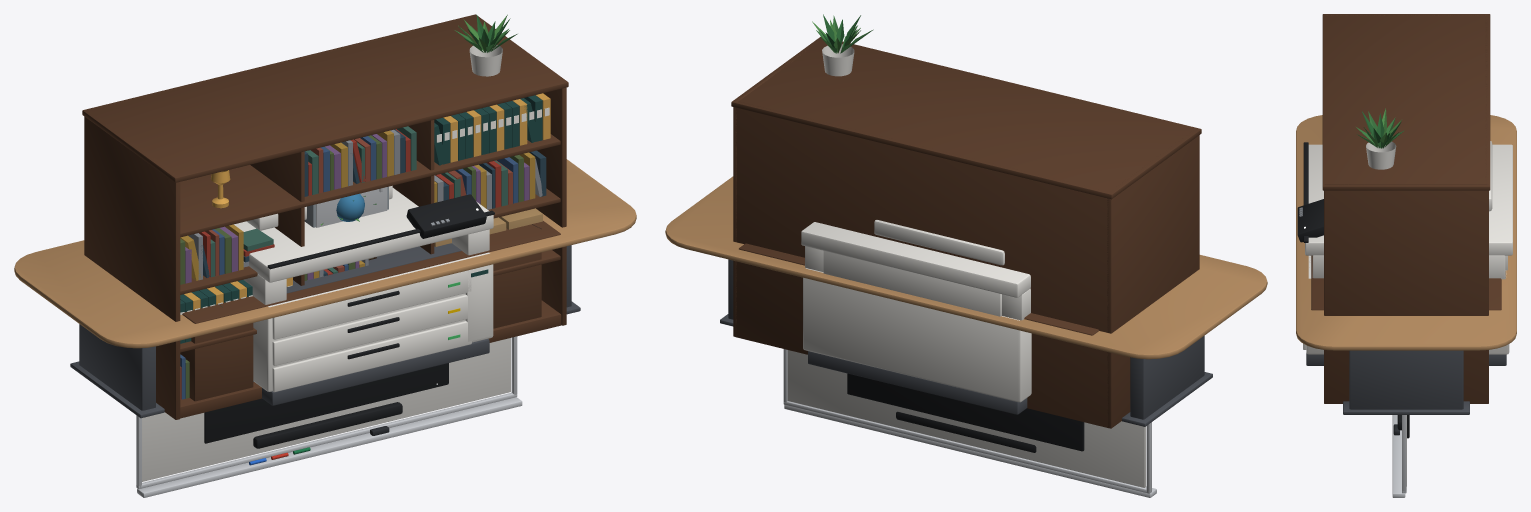
File: mobilier-v02.glb
3 renders of one model, left to right at view 1: azimuth 30°, elevation 25°; view 2: azimuth 150°, elevation 25°; view 3: azimuth 270°, elevation 25°, orthographic. The views are drawn at different scales.
Parts seen in each view (by area): view 1: Chapeau, Plateau réunion, Joue -1, Fond tableau, Tablette 1.44, Scanner, Téléviseur, Tiroir 0, Tiroir 1, Tiroir 2, Caisson -1.18, Joue 1 (+22 smaller); view 2: Fond, Chapeau, Corps, Plateau réunion, Joue -1, Fond tableau, Scanner, Téléviseur, Fond sortie, Pied réunion -1.7, Socle.001, Chargeur (+8 smaller); view 3: Chapeau, Joue 1, Plateau réunion, Pied réunion 1.7, Scanner, Panneau, Plateau direction, Patin 1.7, Auget, Colonne 1, Pot dessus, Socle.001 (+4 smaller).
Boxes of the visible parts, bbox=[...] form: Chapeau: bbox=[82, 14, 568, 182]; Plateau réunion: bbox=[14, 159, 636, 348]; Joue -1: bbox=[84, 112, 180, 419]; Fond tableau: bbox=[142, 338, 510, 481]; Tablette 1.44: bbox=[180, 134, 560, 237]; Scanner: bbox=[234, 188, 493, 282]; Téléviseur: bbox=[204, 363, 448, 443]; Tiroir 0: bbox=[272, 321, 471, 392]; Tiroir 1: bbox=[272, 294, 467, 365]; Tiroir 2: bbox=[272, 270, 471, 339]; Caisson -1.18: bbox=[180, 323, 253, 401]; Joue 1: bbox=[473, 15, 566, 325]; Fond: bbox=[735, 101, 1108, 428]; Chapeau: bbox=[731, 36, 1201, 199]; Corps: bbox=[803, 268, 1031, 402]; Plateau réunion: bbox=[665, 176, 1267, 359]; Joue -1: bbox=[1107, 135, 1199, 428]; Fond tableau: bbox=[787, 350, 1145, 487]; Scanner: bbox=[801, 222, 1030, 297]; Téléviseur: bbox=[847, 373, 1084, 451]; Fond sortie: bbox=[823, 251, 1001, 316]; Pied réunion -1.7: bbox=[1130, 336, 1204, 419]; Socle.001: bbox=[808, 351, 1027, 414]; Chargeur: bbox=[874, 220, 1004, 265]; Chapeau: bbox=[1322, 14, 1490, 190]; Joue 1: bbox=[1324, 184, 1488, 403]; Plateau réunion: bbox=[1296, 115, 1516, 350]; Pied réunion 1.7: bbox=[1349, 350, 1463, 409]; Scanner: bbox=[1305, 144, 1512, 255]; Panneau: bbox=[1297, 199, 1323, 242]; Plateau direction: bbox=[1311, 255, 1501, 310]; Patin 1.7: bbox=[1343, 401, 1469, 414]; Auget: bbox=[1392, 415, 1405, 497]; Colonne 1: bbox=[1312, 255, 1505, 279]; Pot dessus: bbox=[1366, 141, 1396, 169]; Socle.001: bbox=[1306, 353, 1506, 365].
Size of the model in its own units: 4.34 by 3.16 by 1.74.
